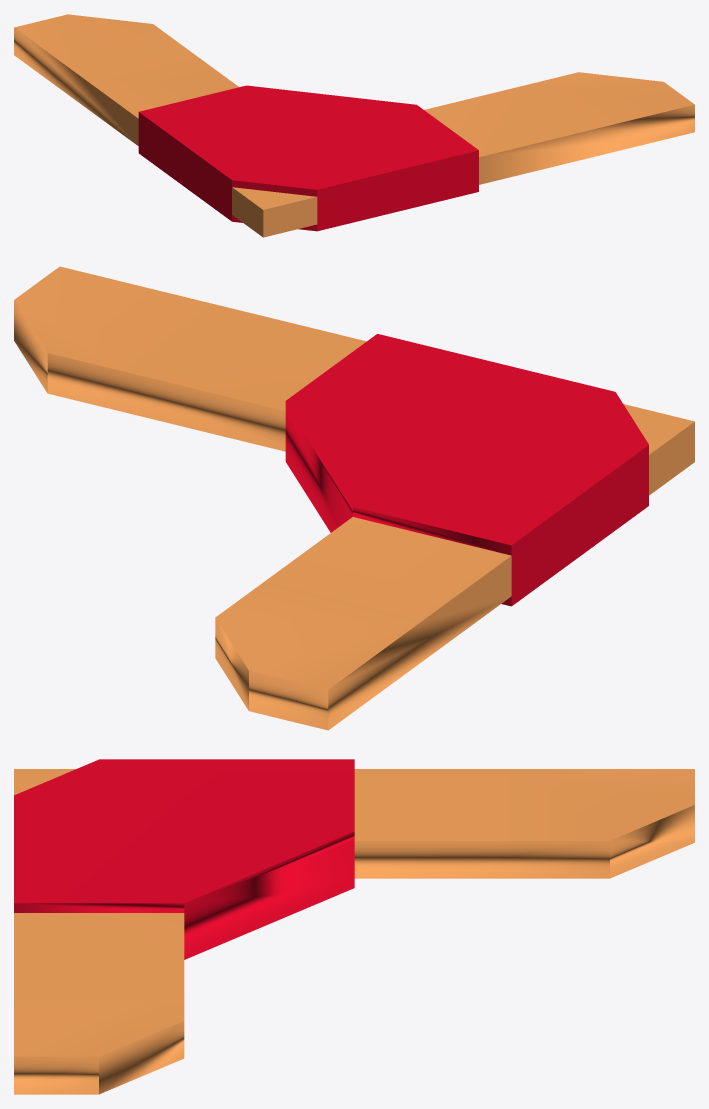
The model's file is simpleBoomerang.fbx.
3 views of the same model, one above another, from view 1: azimuth 30°, elevation 25°; view 2: azimuth 150°, elevation 25°; view 3: azimuth 270°, elevation 25° (orthographic). The views are drawn at different scales.
Visible parts, largest first — view 1: Cube.001; view 2: Cube.001; view 3: Cube.001.
Boxes of the visible parts, x1,y1,x2,y2 form: Cube.001: (14, 14, 694, 237); Cube.001: (14, 266, 694, 730); Cube.001: (14, 759, 694, 1094).
Size of the model in its own units: 200 by 18.37 by 200.
